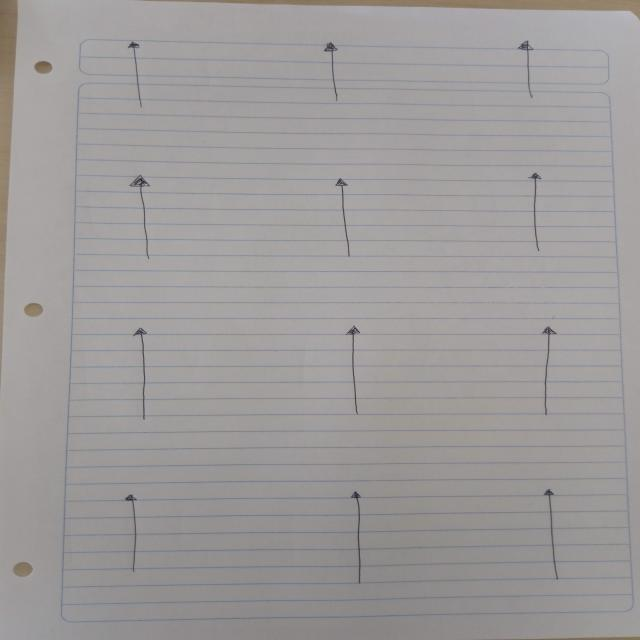arrow_line_up: (536, 481, 585, 593), (112, 36, 162, 116), (322, 172, 365, 264), (520, 174, 563, 264), (331, 321, 370, 409), (126, 320, 155, 426), (127, 172, 163, 255), (537, 318, 566, 420), (346, 486, 371, 585), (318, 36, 352, 106), (123, 492, 152, 572), (517, 35, 541, 107)
